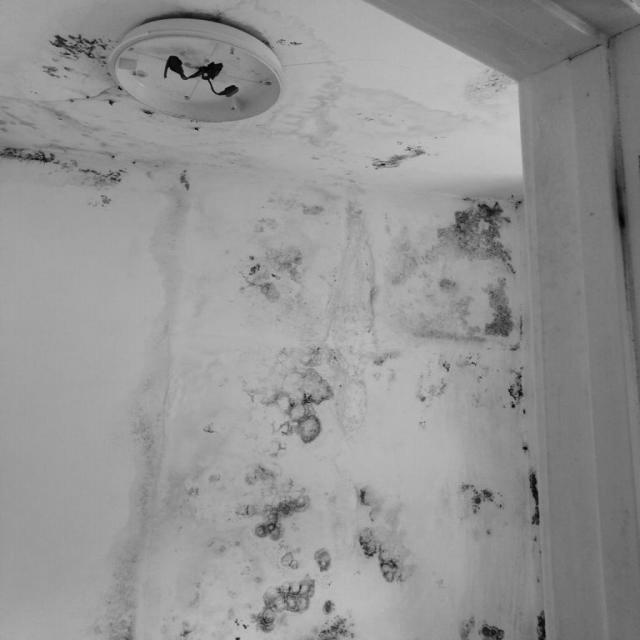stain marks: (99, 374, 550, 640), (154, 176, 387, 374), (387, 184, 532, 350), (0, 94, 166, 211), (307, 74, 485, 175), (157, 104, 309, 176), (213, 0, 341, 70), (44, 24, 118, 90), (384, 350, 538, 373)
